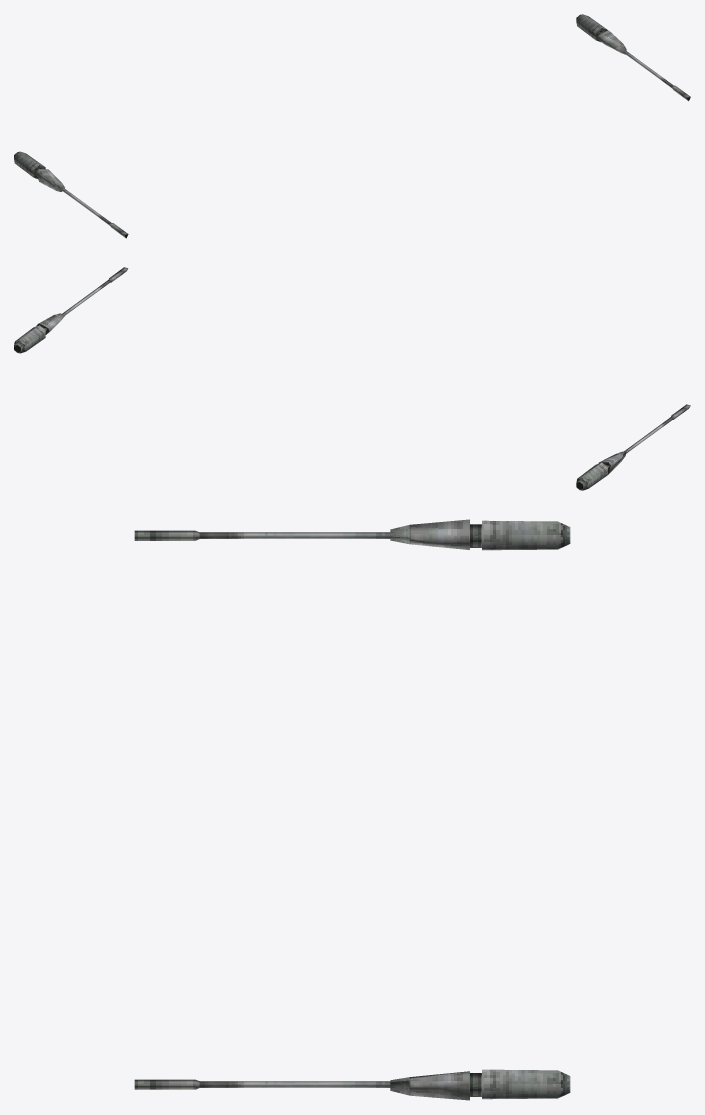
The model's file is hutt_fighter_heavy_weapon2_s05_l2.fbx.
3 views of the same model, one above another, from view 1: azimuth 30°, elevation 25°; view 2: azimuth 150°, elevation 25°; view 3: azimuth 270°, elevation 25° (orthographic). The views are drawn at different scales.
Visible parts, largest first — view 1: mesh_node; view 2: mesh_node; view 3: mesh_node.
Part boxes in pixels (x1=…): mesh_node: x1=14, y1=14, x2=690, y2=238; mesh_node: x1=14, y1=267, x2=690, y2=490; mesh_node: x1=134, y1=519, x2=570, y2=1100.
Bounding box in the file's own units: 26.56 × 0.6543 × 8.72.
1 material, 1 textured.
